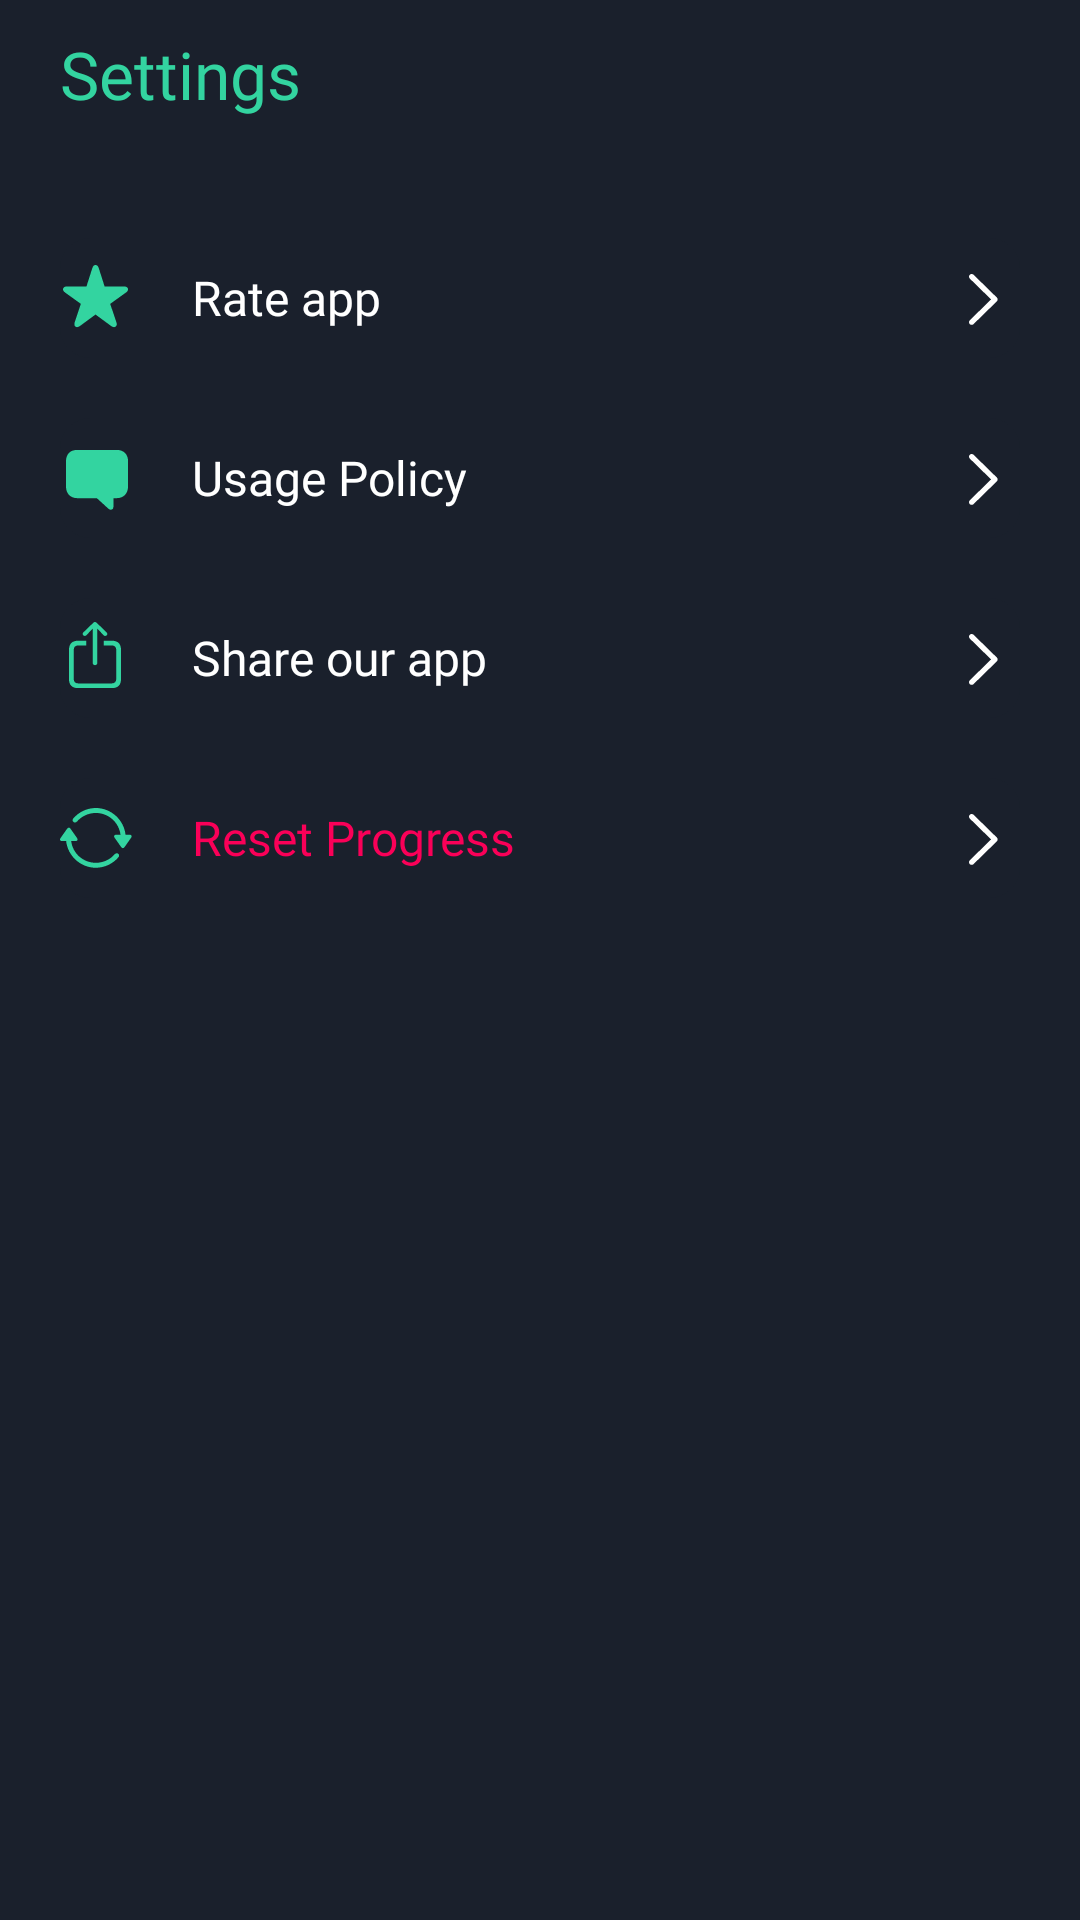

Icon bounding boxes for this 1080 × 1920 phone screenshot, format (x1, y1, x2, y2):
arrow: (969, 274, 998, 325), (969, 454, 998, 505), (969, 634, 998, 685), (969, 814, 998, 865)
message: (66, 450, 128, 510)
star: (63, 265, 128, 327)
